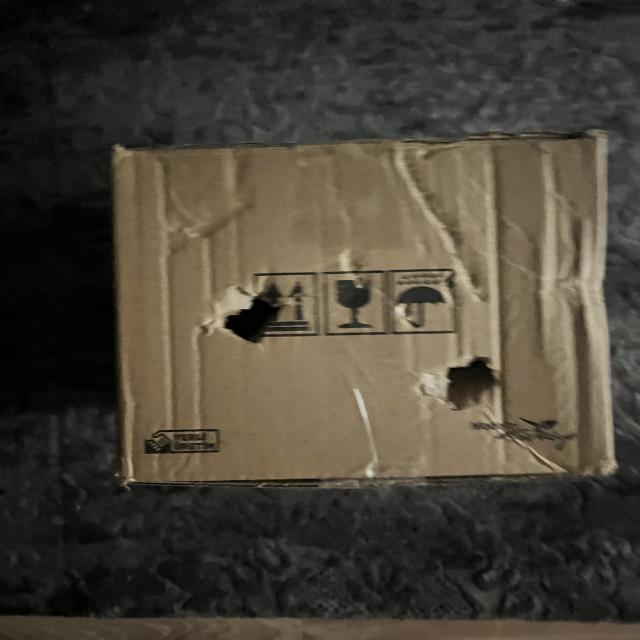damaged: (91, 128, 627, 504), (379, 152, 506, 312), (195, 262, 302, 363), (404, 343, 524, 424), (535, 205, 604, 325)
